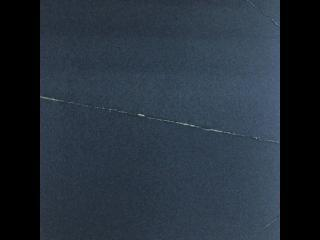crack: (38, 83, 279, 156)
